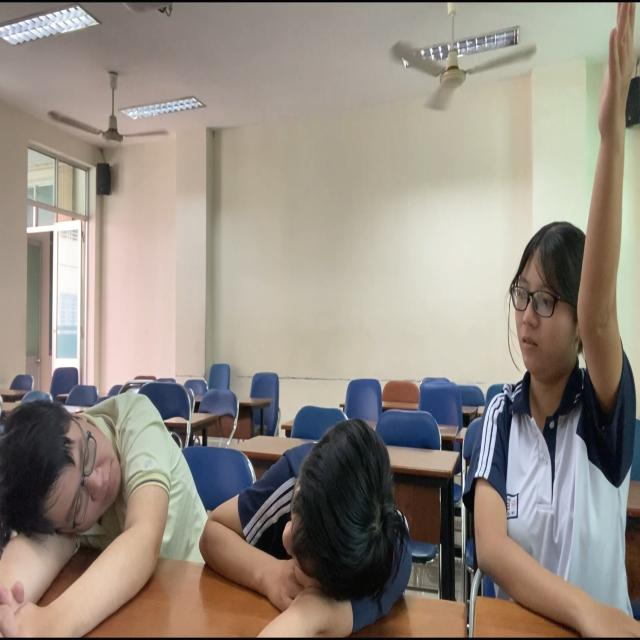raise_hand: (467, 1, 640, 640)
sleep: (1, 374, 207, 640), (193, 417, 421, 640)
